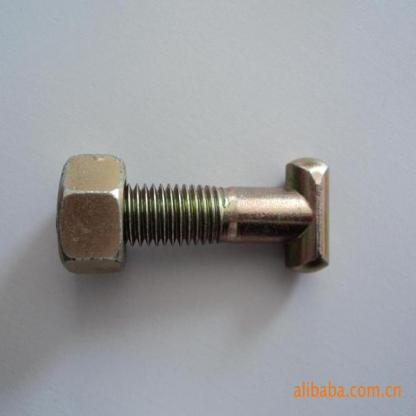FOD: (126, 155, 335, 280), (56, 152, 124, 282)
